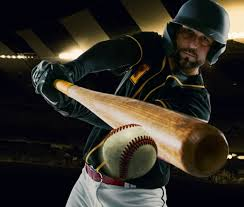baseball bat: (47, 72, 231, 179)
